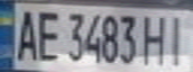3: (118, 11, 142, 65), (63, 8, 84, 62)
4: (81, 9, 103, 63)
8: (100, 10, 121, 64)
A: (9, 5, 39, 62)
E: (33, 6, 63, 62)
H: (139, 11, 172, 66)
I: (163, 11, 193, 66)
